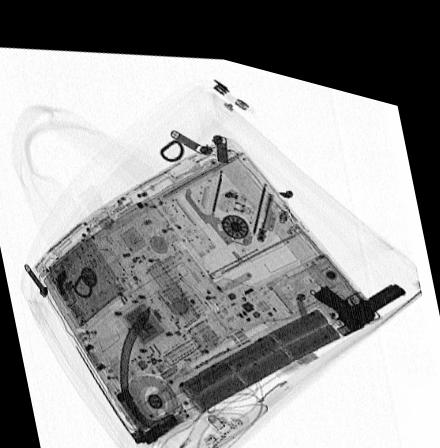Gun: (314, 258, 407, 312)
